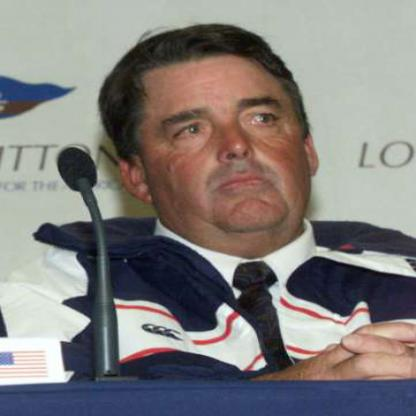face: (130, 27, 311, 238)
